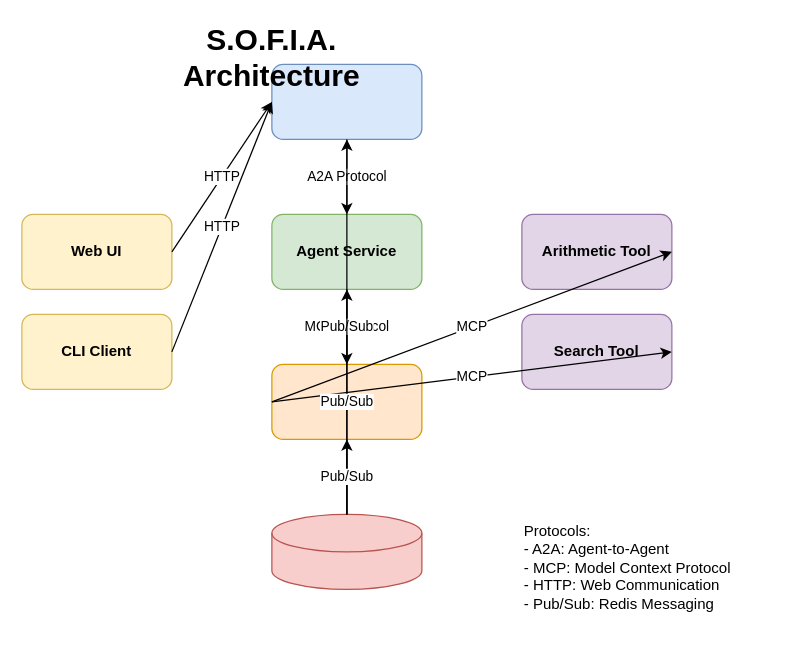
Some shapes in this 794 by 660 pixel diagram are drawn without their labels. Each missing label, with the centre of its shape:
Gateway Service: point 346,101
Redis: point 346,551
Tool Execution Service: point 346,401
